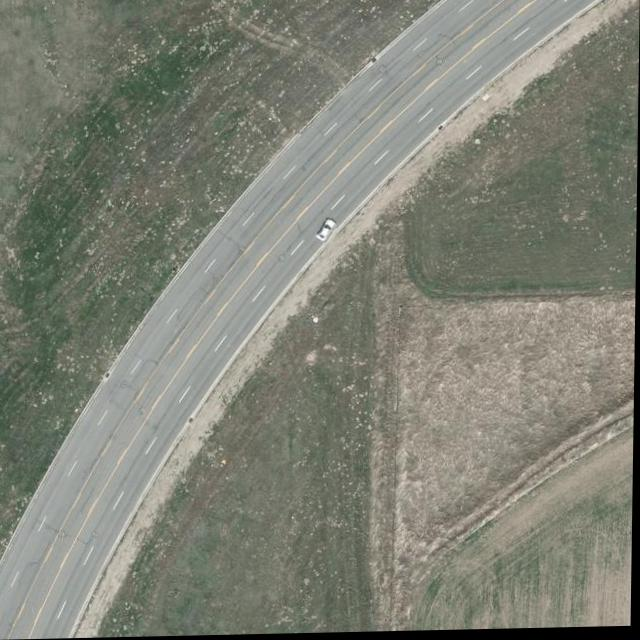vehicle: (316, 220, 339, 245)
